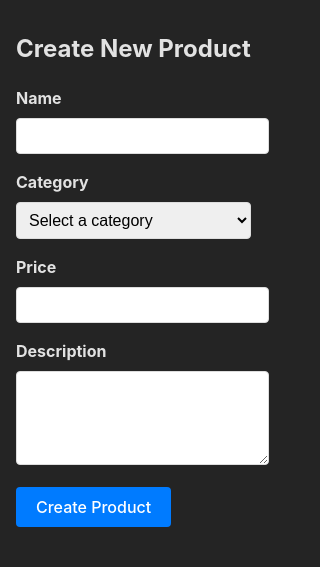
Test: CreateProductForm › should display error message on failure
The width and height of the screenshot is (320, 567).
Type "Laptop" into the field labelled "Name" at (142, 136), box left=16, top=118, right=269, bottom=154
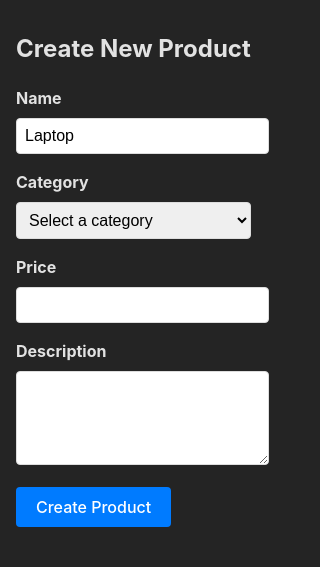
Select "Electronics" in the dropdown labelled "Category" at (133, 221), box left=16, top=202, right=251, bottom=239
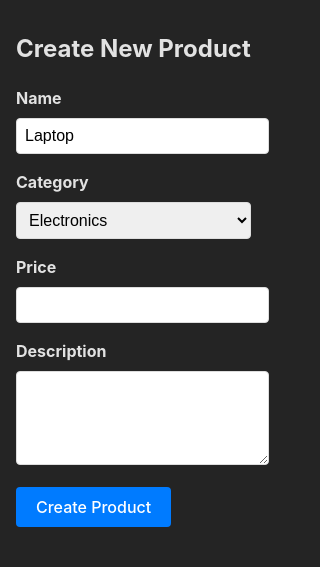
Type "999.99" into the number field labelled "Price" at (142, 305), box left=16, top=287, right=269, bottom=323
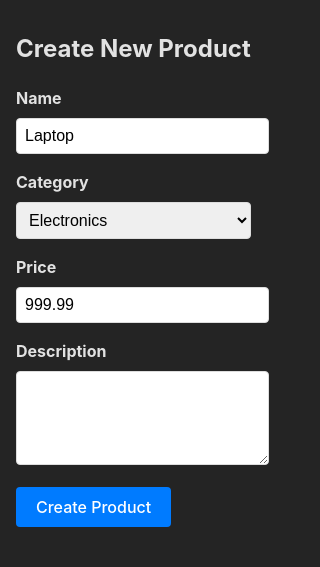
Type "High-performance laptop" into the text box labelled "Description" at (142, 418), box left=16, top=371, right=269, bottom=465
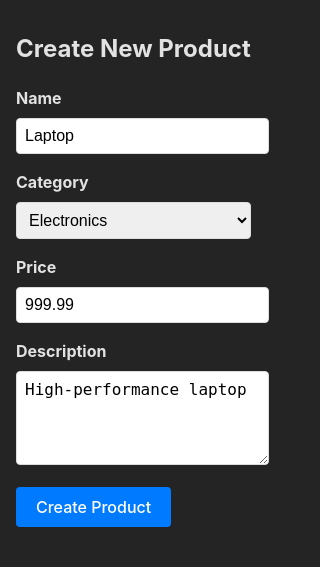
Click the button "Create Product" at (94, 507), box left=16, top=487, right=171, bottom=527
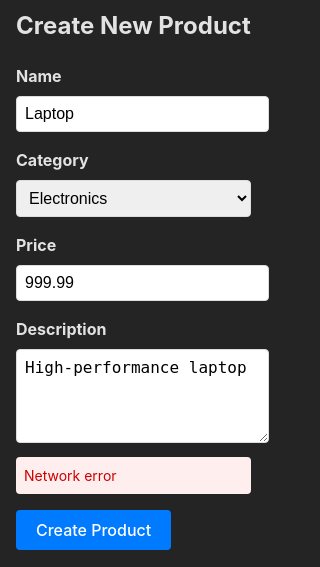
expect the text "Network error" is shown: met, box left=16, top=457, right=251, bottom=494
